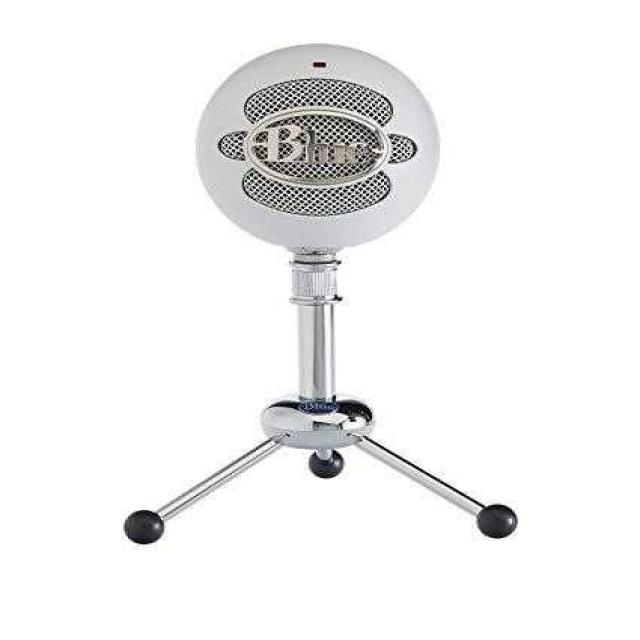microphone: (118, 45, 514, 544)
